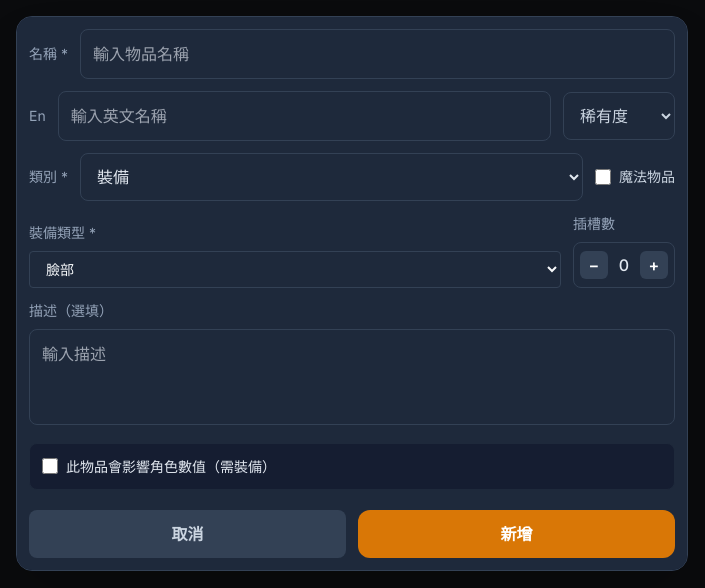
Test: AddPersonalItemModal - applies_unequipped 文案與子選項 › 類別為藥水時，提示文字為「此物品會直接影響角色數值，無須裝備」
Step 1. Select "藥水" in the dropdown showing "裝備" next to "類別 *" → (332, 176), box [80,152,583,200]
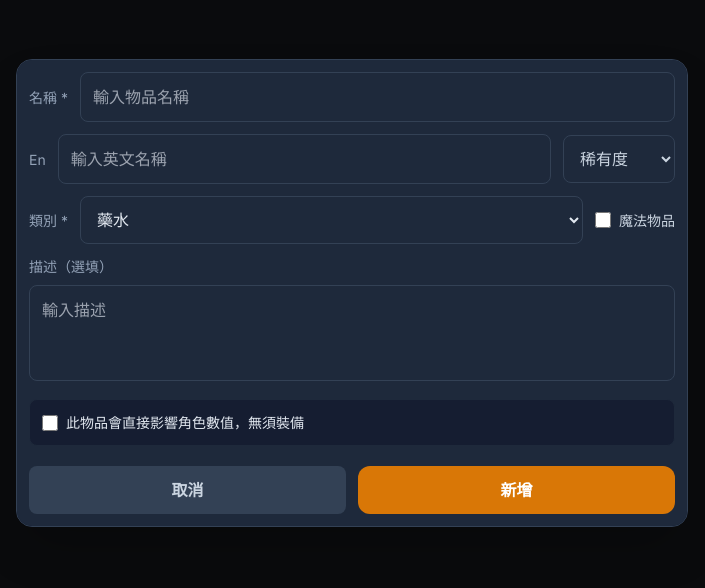
Expected: the text "此物品會直接影響角色數值，無須裝備" is shown, [42,414,304,431]
